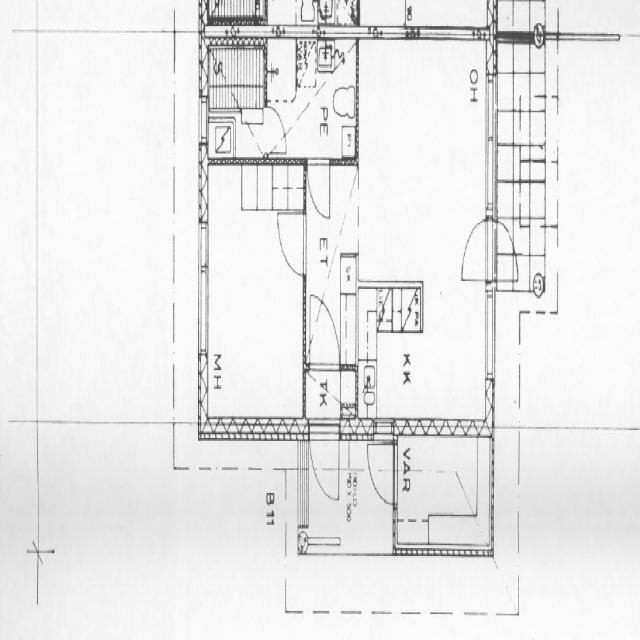door: (309, 418, 339, 510), (459, 218, 495, 282), (486, 218, 521, 282), (310, 296, 339, 372), (276, 212, 306, 275), (367, 445, 397, 505), (308, 159, 330, 217), (263, 106, 287, 154)
